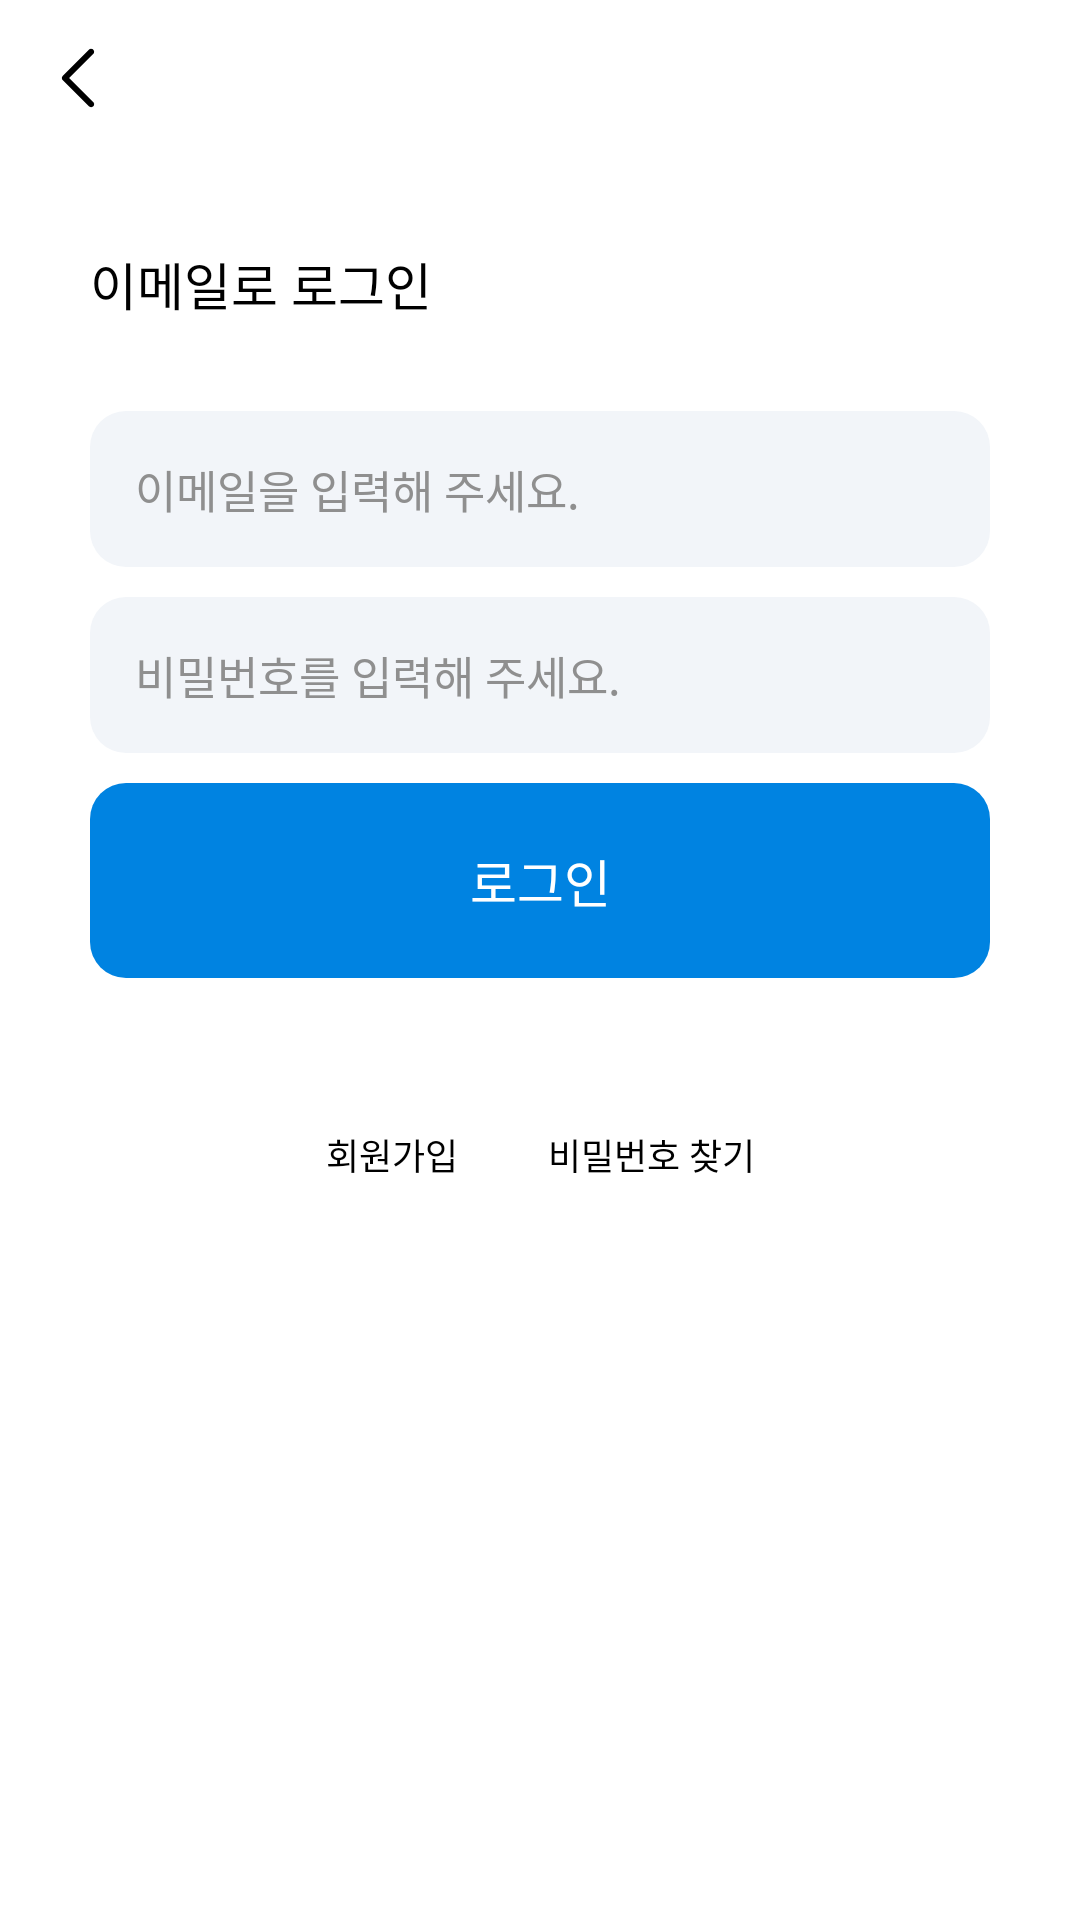

Where to tap for icons on this 1080px x 1920px app screen, as point (x, y):
back: point (78, 78)
